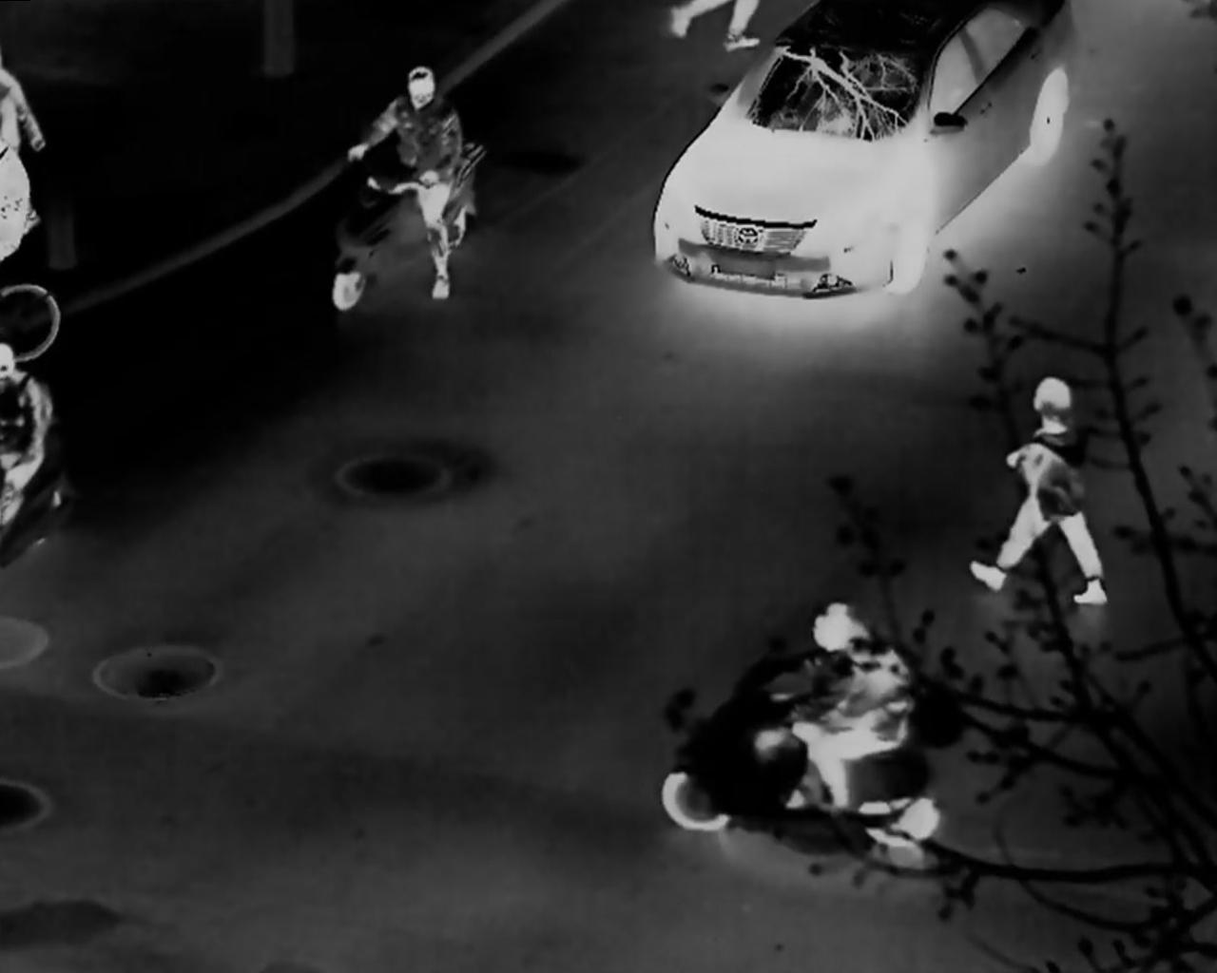person: (970, 377, 1109, 605), (347, 67, 465, 301), (793, 600, 911, 789)
